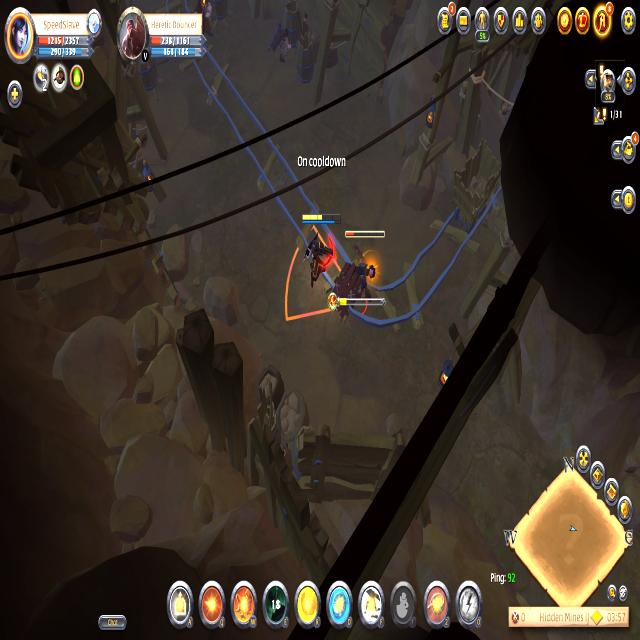ore: (339, 225, 387, 324), (268, 21, 294, 71), (194, 0, 218, 46)
red: (299, 212, 336, 288)
silver: (284, 233, 340, 320)
